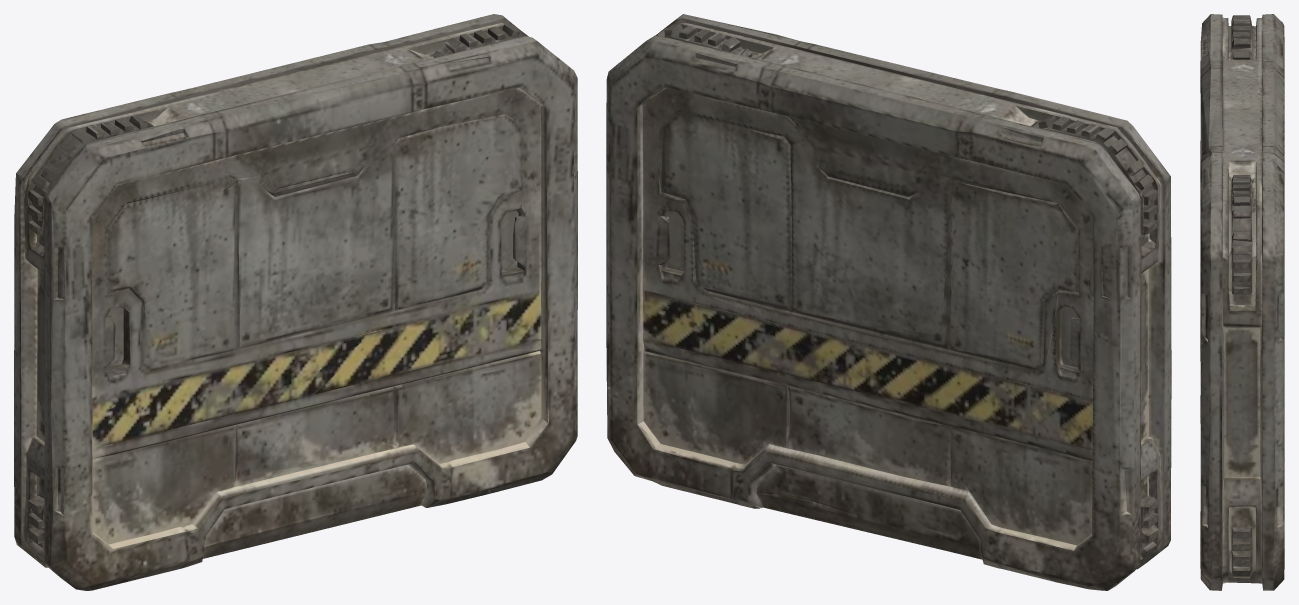
The model's file is struct.gate.door.glb.
3 views of the same model, side by side, from view 1: azimuth 30°, elevation 25°; view 2: azimuth 150°, elevation 25°; view 3: azimuth 270°, elevation 25° (orthographic). The views are drawn at different scales.
Parts seen in each view (by area): view 1: body; view 2: body; view 3: body.
Part boxes in pixels (left/top/right/bottom): body: left=14, top=14, right=577, bottom=590; body: left=606, top=14, right=1171, bottom=590; body: left=1200, top=14, right=1284, bottom=590.
Size of the model in its own units: 1.9 by 1.53 by 0.3017.
1 material, 1 textured.
